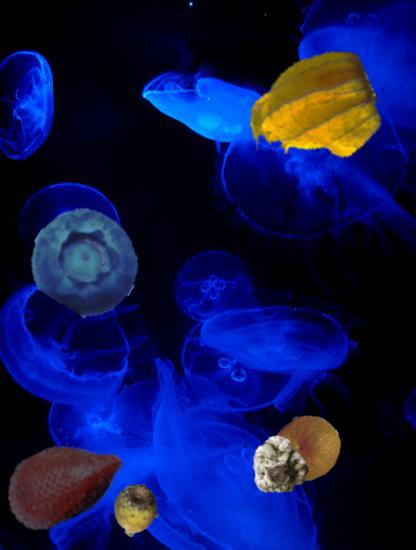Cactus: (109, 483, 165, 539)
Cauliflower: (251, 434, 311, 494)
Huckleberry: (31, 207, 141, 317)
Mandarine: (271, 412, 342, 483)
Physalis: (244, 47, 378, 181)
Salak: (2, 419, 127, 544)
